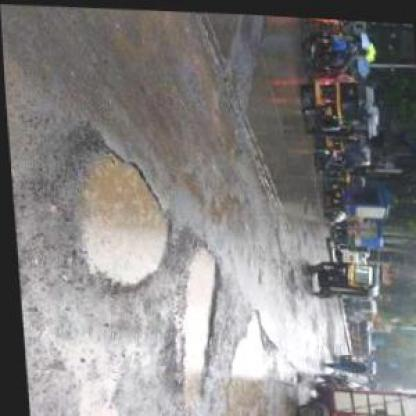pothole: (70, 141, 178, 294), (166, 240, 228, 398), (208, 302, 269, 415)
